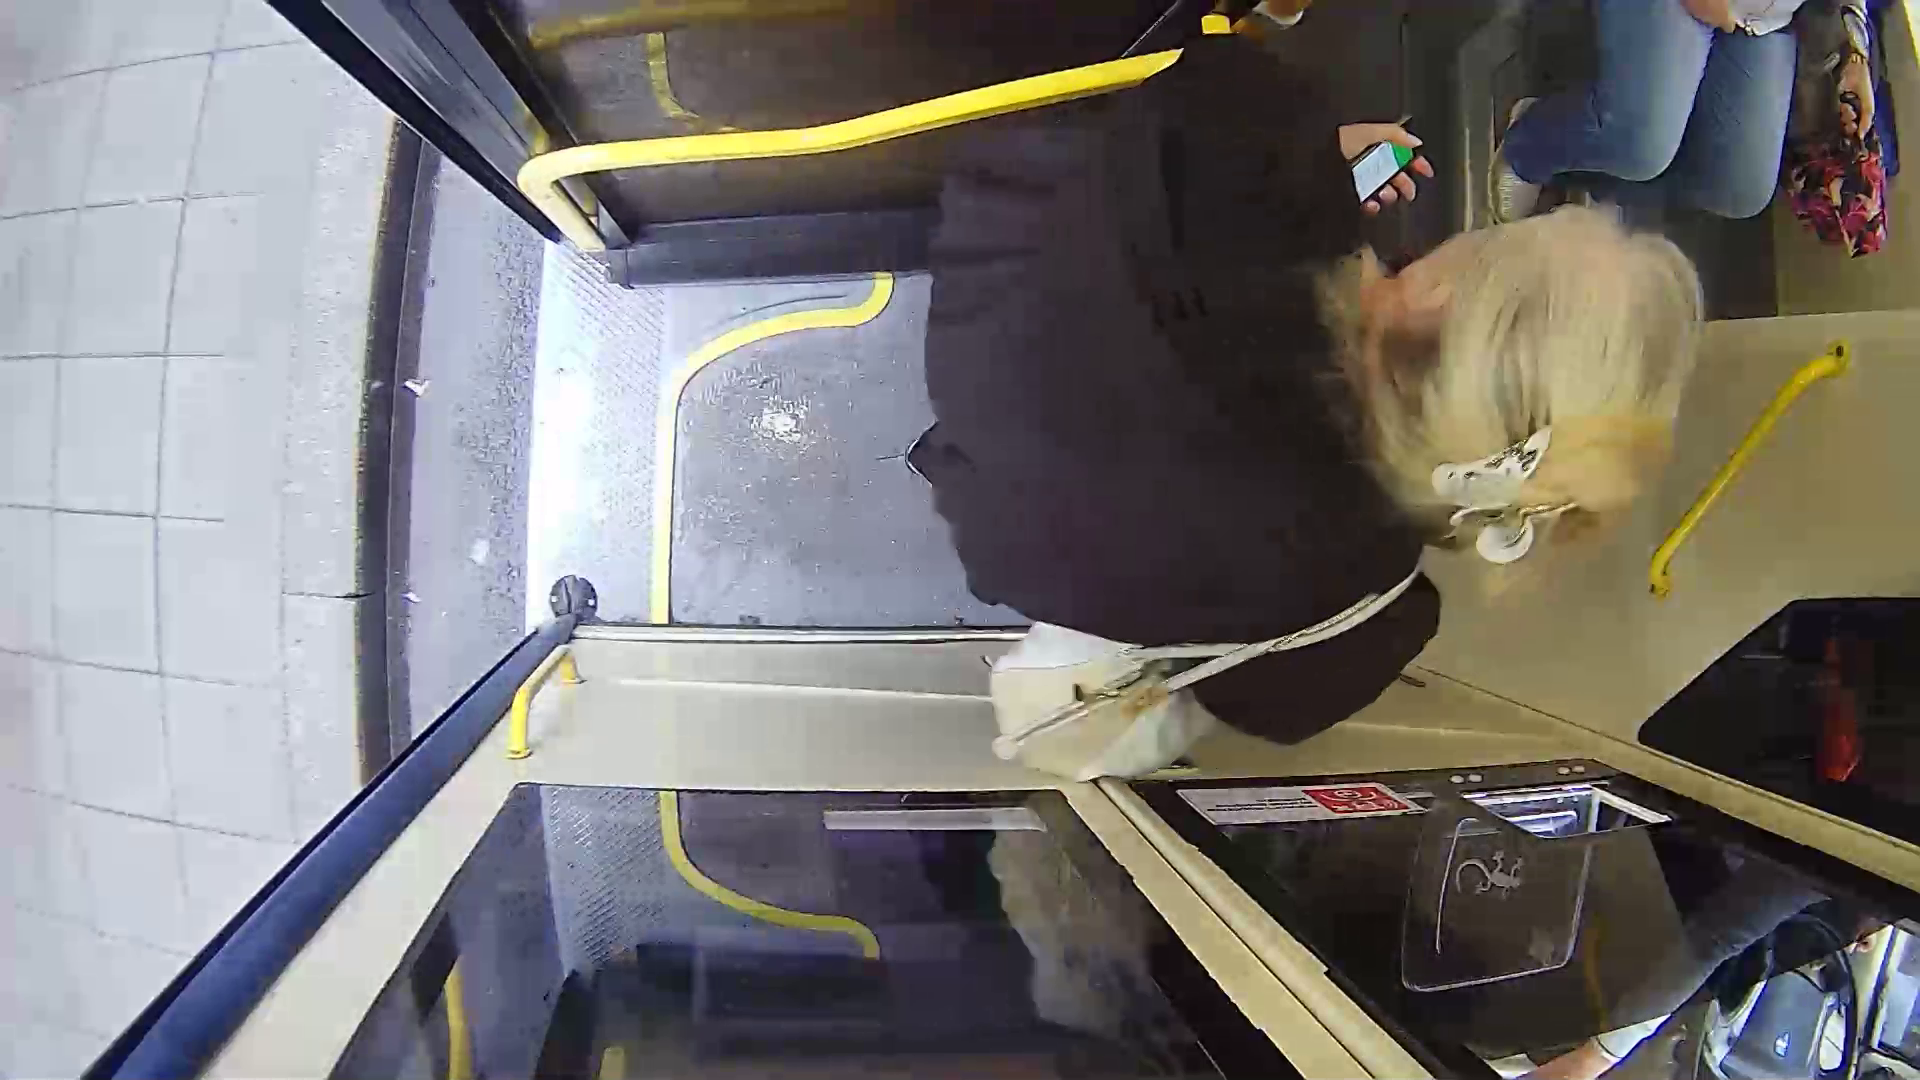person: (934, 74, 1730, 714)
